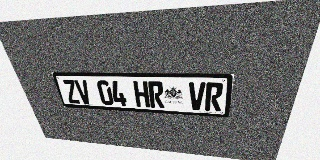0: (96, 80, 114, 105)
4: (109, 80, 127, 106)
H: (133, 81, 150, 107)
R: (205, 82, 224, 111), (148, 81, 164, 108)
V: (189, 82, 206, 110), (74, 80, 93, 104)
Z: (62, 80, 81, 104)
